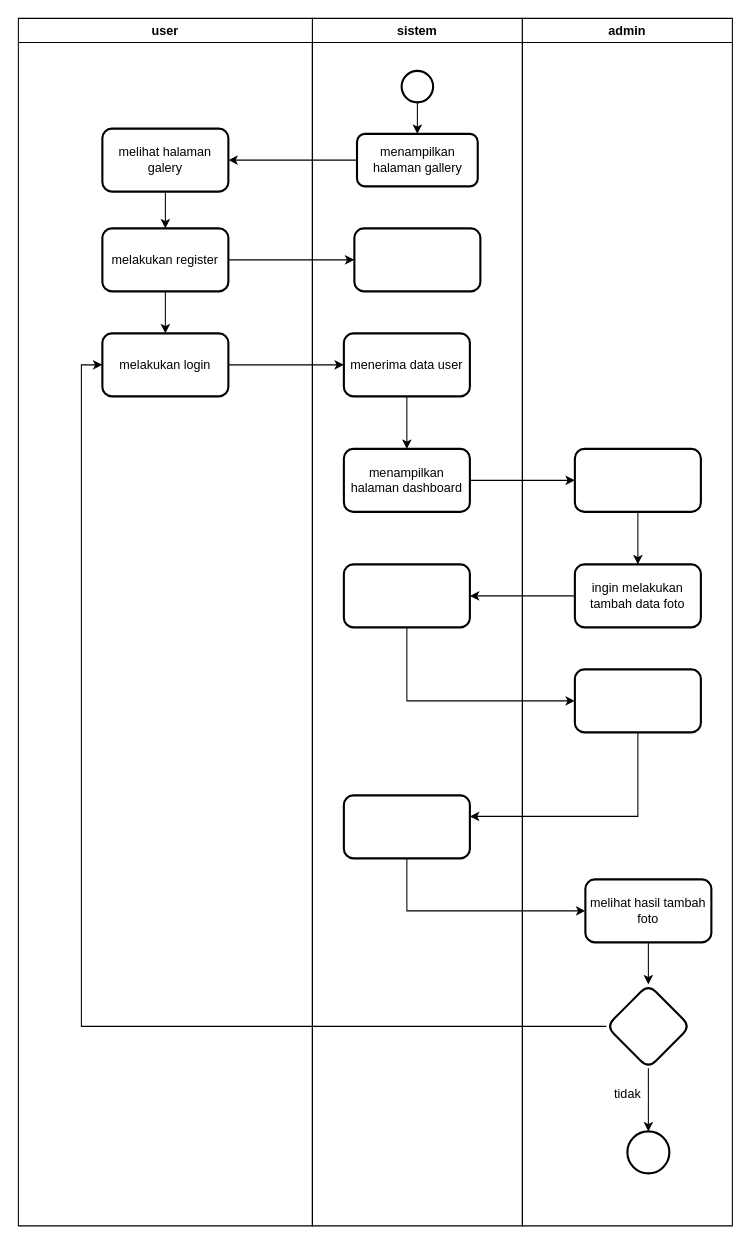
Image size: 751x1244. Some labels were removed from this diagram. The shapes that lost their labels are listed below. From the top down, each one's centre as x and y in pixels, then its label:
pixel 417 259: menampilkan halaman register dan menyimpan data user
pixel 637 479: melihat halaman dashbord
pixel 406 595: menampilkan halaman tambah data foto
pixel 637 700: mengisi tabel tambah data foto
pixel 406 826: menampilkan data foto
pixel 648 1026: logout?
